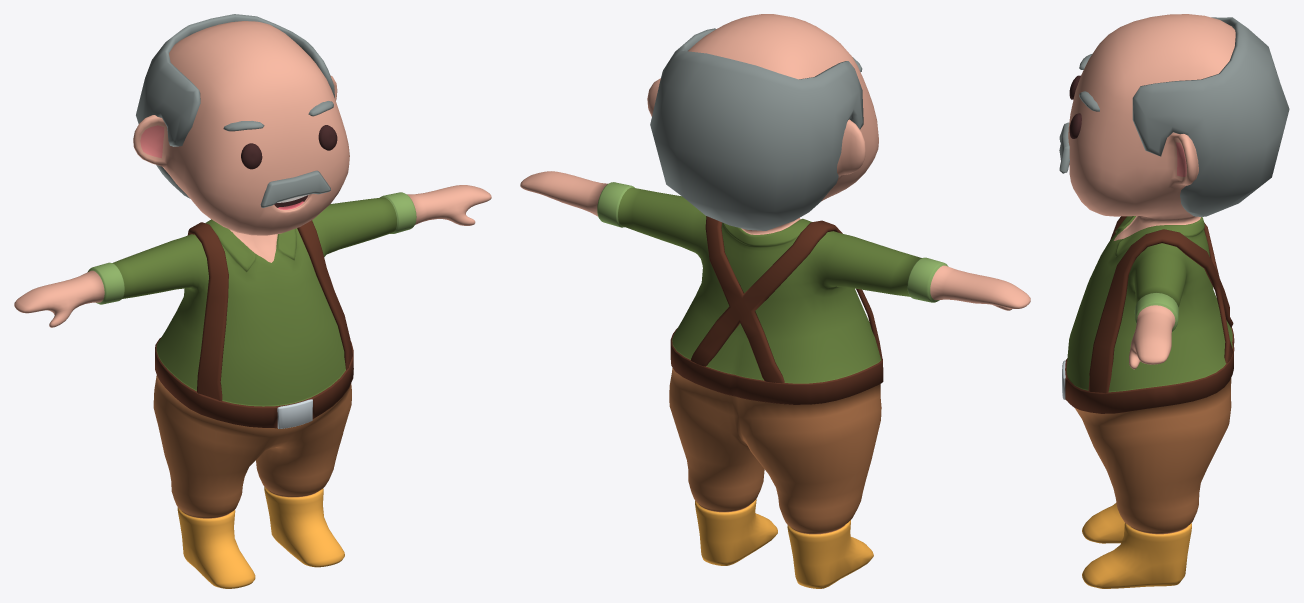
The model's file is old_male_farmer_01.fbx.
3 views of the same model, side by side, from view 1: azimuth 30°, elevation 25°; view 2: azimuth 150°, elevation 25°; view 3: azimuth 270°, elevation 25° (orthographic). The views are drawn at different scales.
Visible parts, largest first — view 1: old_male_farmer_01; view 2: old_male_farmer_01; view 3: old_male_farmer_01.
Boxes of the visible parts, x1,y1,x2,y2 form: old_male_farmer_01: (14, 14, 491, 588); old_male_farmer_01: (520, 14, 1030, 588); old_male_farmer_01: (1059, 14, 1289, 588).
Bounding box in the file's own units: 4.9 × 5.1 × 1.99.
